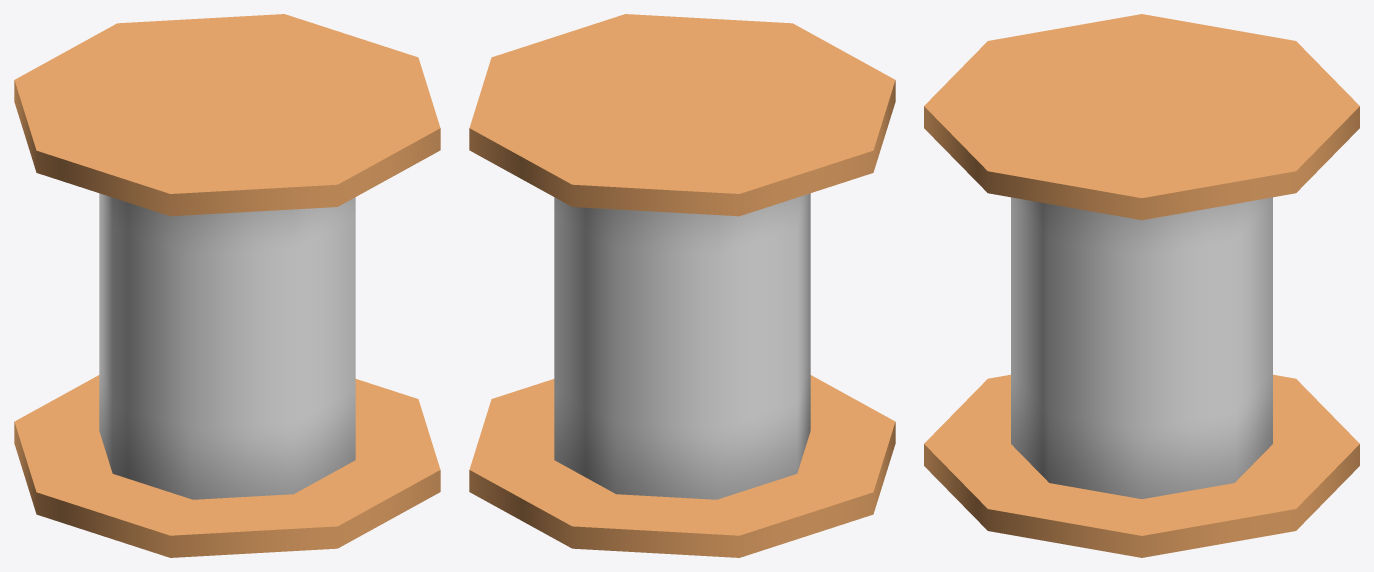
File: spool-6.fbx
3 renders of one model, left to right at view 1: azimuth 30°, elevation 25°; view 2: azimuth 150°, elevation 25°; view 3: azimuth 270°, elevation 25°, orthographic.
Parts seen in each view (by area): view 1: spool-6; view 2: spool-6; view 3: spool-6.
Part boxes in pixels (bbox=[...]): spool-6: bbox=[14, 14, 440, 557]; spool-6: bbox=[469, 14, 895, 557]; spool-6: bbox=[924, 14, 1359, 557].
Bounding box in the file's own units: 8.88 × 8.08 × 8.88.
Materials: 2 (2 with a texture image).
